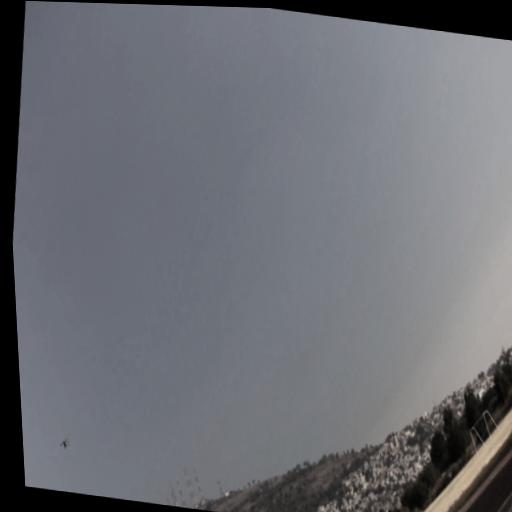drones: (58, 435, 71, 452)
